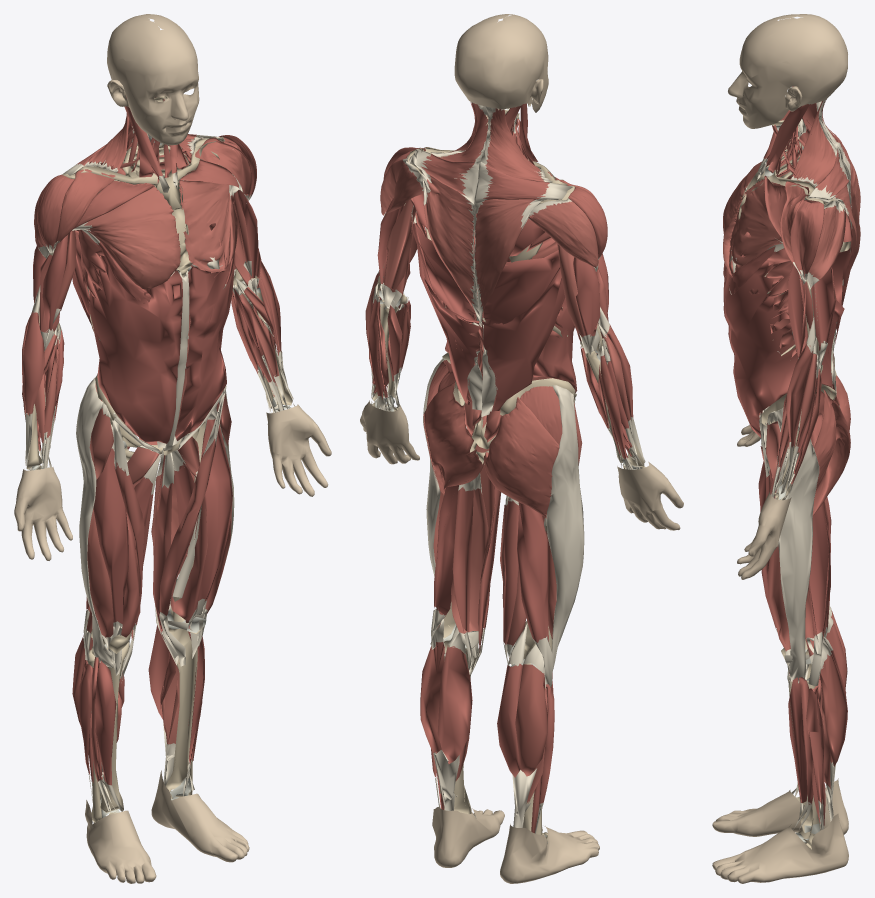
Rendered from male_anatomy.glb.
3 views of the same model, side by side, from view 1: azimuth 30°, elevation 25°; view 2: azimuth 150°, elevation 25°; view 3: azimuth 270°, elevation 25° (orthographic). The views are drawn at different scales.
Visible parts, largest first — view 1: context-surface-head, region-external-abdominal-oblique-muscle-righ-57af2c2a, context-extensor-digitorum-longus-l, context-body-of-sternum, region-sternocostal-head-of-pectoralis-major--258b60d7, region-external-abdominal-oblique-muscle-left-dfcc30c2, context-iliotibial-tract-l, region-sternocostal-head-of-pectoralis-major--2efacf88, region-rectus-femoris-muscle-right-1dce32a8, region-rectus-femoris-muscle-left-065c286a, region-vastus-medialis-muscle-left-05d859a4, region-vastus-lateralis-muscle-right-af9972a3 (+29 smaller); view 2: context-surface-head, region-latissimus-dorsi-muscle-right-5a94edc1, context-iliotibial-tract-l, region-gluteus-maximus-muscle-right-1c507304, context-body-of-sternum, region-latissimus-dorsi-muscle-left-91802492, region-lower-trapezius-ascending-fibres-left-5202af4a, region-lower-trapezius-ascending-fibres-right-1f163cd7, region-gluteus-maximus-muscle-left-9560e9f4, region-long-head-of-biceps-femoris-right-f78f6090, region-medial-head-of-gastrocnemius-left-0a056f8b, region-lateral-head-of-gastrocnemius-right-4711db30 (+30 smaller); view 3: context-surface-head, region-external-abdominal-oblique-muscle-left-dfcc30c2, context-extensor-digitorum-longus-l, context-iliotibial-tract-l, context-body-of-sternum, region-sternocostal-head-of-pectoralis-major--2efacf88, region-long-head-of-biceps-femoris-left-8132d07a, region-gluteus-maximus-muscle-left-9560e9f4, region-lateral-head-of-gastrocnemius-left-3e9700bd, region-lateral-deltoid-left-97d42992, region-upper-trapezius-descending-fibres-left-c3270e63, region-posterior-deltoid-left-8f30444d (+24 smaller).
Boxes of the visible parts, bbox=[...] form: context-surface-head: bbox=[14, 14, 331, 883]; region-external-abdominal-oblique-muscle-righ-57af2c2a: bbox=[89, 255, 182, 443]; context-extensor-digitorum-longus-l: bbox=[78, 96, 224, 822]; context-body-of-sternum: bbox=[26, 96, 292, 823]; region-sternocostal-head-of-pectoralis-major--258b60d7: bbox=[72, 186, 180, 289]; region-external-abdominal-oblique-muscle-left-dfcc30c2: bbox=[175, 258, 234, 440]; context-iliotibial-tract-l: bbox=[76, 271, 234, 667]; region-sternocostal-head-of-pectoralis-major--2efacf88: bbox=[179, 176, 238, 272]; region-rectus-femoris-muscle-right-1dce32a8: bbox=[93, 424, 128, 675]; region-rectus-femoris-muscle-left-065c286a: bbox=[189, 410, 232, 658]; region-vastus-medialis-muscle-left-05d859a4: bbox=[170, 497, 207, 640]; region-vastus-lateralis-muscle-right-af9972a3: bbox=[87, 509, 114, 660]; context-surface-head: bbox=[360, 14, 683, 883]; region-latissimus-dorsi-muscle-right-5a94edc1: bbox=[476, 250, 564, 416]; context-iliotibial-tract-l: bbox=[423, 358, 584, 672]; region-gluteus-maximus-muscle-right-1c507304: bbox=[484, 397, 559, 518]; context-body-of-sternum: bbox=[372, 103, 645, 845]; region-latissimus-dorsi-muscle-left-91802492: bbox=[411, 205, 482, 410]; region-lower-trapezius-ascending-fibres-left-5202af4a: bbox=[421, 168, 482, 322]; region-lower-trapezius-ascending-fibres-right-1f163cd7: bbox=[474, 185, 545, 323]; region-gluteus-maximus-muscle-left-9560e9f4: bbox=[423, 382, 483, 494]; region-long-head-of-biceps-femoris-right-f78f6090: bbox=[517, 502, 552, 686]; region-medial-head-of-gastrocnemius-left-0a056f8b: bbox=[437, 625, 472, 763]; region-lateral-head-of-gastrocnemius-right-4711db30: bbox=[515, 644, 547, 776]; context-surface-head: bbox=[712, 14, 848, 883]; region-external-abdominal-oblique-muscle-left-dfcc30c2: bbox=[723, 261, 800, 437]; context-extensor-digitorum-longus-l: bbox=[740, 86, 847, 830]; context-iliotibial-tract-l: bbox=[760, 407, 819, 683]; context-body-of-sternum: bbox=[731, 120, 850, 849]; region-sternocostal-head-of-pectoralis-major--2efacf88: bbox=[723, 179, 782, 275]; region-long-head-of-biceps-femoris-left-8132d07a: bbox=[808, 502, 830, 685]; region-gluteus-maximus-muscle-left-9560e9f4: bbox=[812, 389, 850, 515]; region-lateral-head-of-gastrocnemius-left-3e9700bd: bbox=[806, 637, 847, 766]; region-lateral-deltoid-left-97d42992: bbox=[790, 199, 824, 280]; region-upper-trapezius-descending-fibres-left-c3270e63: bbox=[791, 99, 839, 186]; region-posterior-deltoid-left-8f30444d: bbox=[807, 200, 845, 289].
Bounding box in the file's own units: 0.7942 × 2 × 0.3216.
